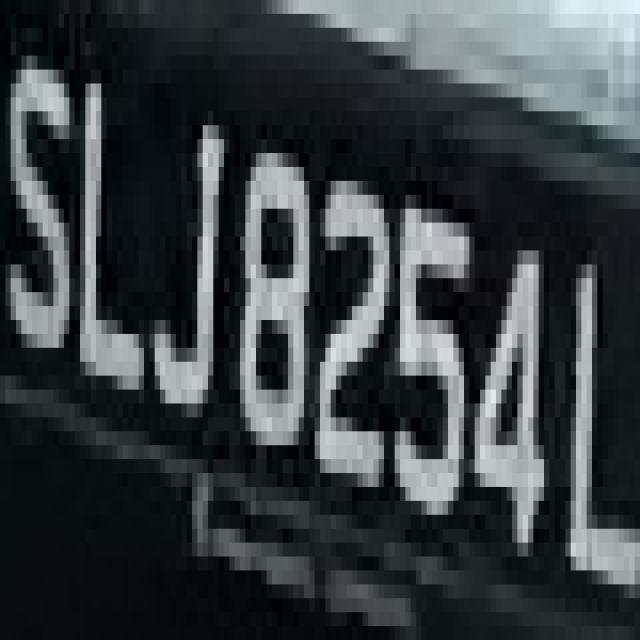2: (320, 125, 400, 543)
4: (464, 181, 544, 570)
5: (389, 139, 475, 584)
8: (234, 111, 314, 487)
J: (139, 84, 224, 459)
L: (554, 208, 640, 612), (70, 28, 150, 417)
S: (0, 27, 69, 389)
